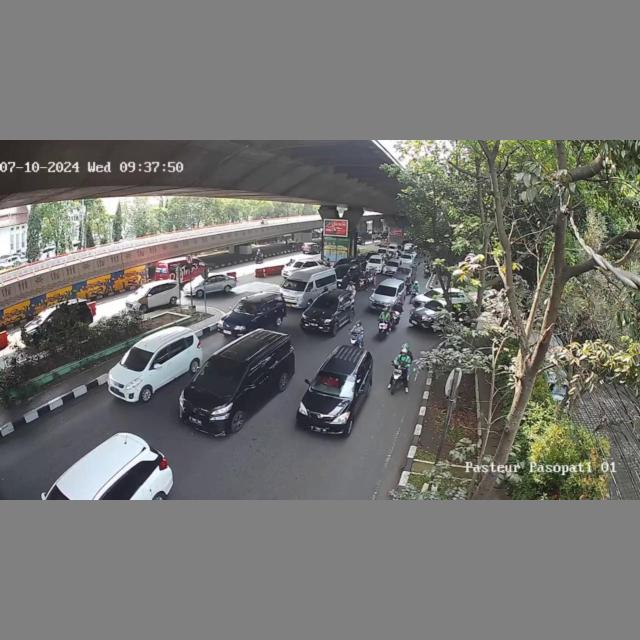windshield: (195, 359, 247, 396), (312, 369, 358, 399), (121, 346, 156, 371), (282, 278, 309, 291), (234, 302, 259, 316), (315, 297, 338, 310), (374, 285, 398, 296)
